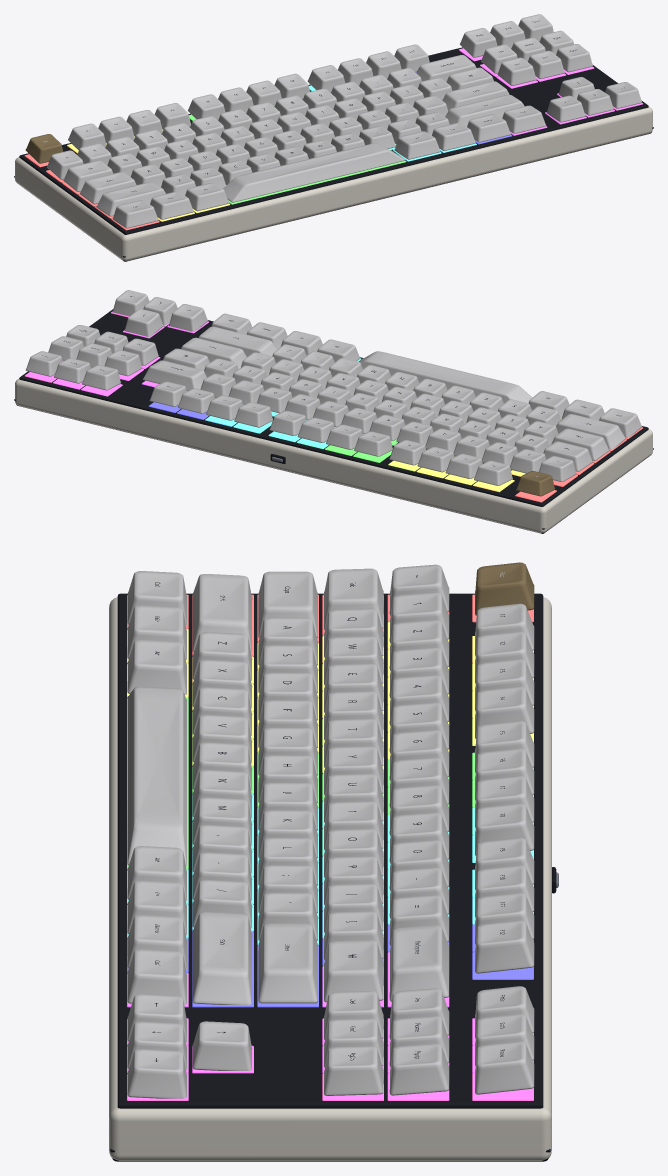
The picture shows the model from 3 angles, top to bottom: view 1: azimuth 30°, elevation 25°; view 2: azimuth 150°, elevation 25°; view 3: azimuth 270°, elevation 25°; orthographic projection. The views are drawn at different scales.
Parts seen in each view (by area): view 1: Housing, Switch plate, Key 056 | Space, Key 052 | Shift, Key 041 | Shift, Key 040 | Enter, Key 028 | Caps, Key 013 | Backspace, Key 057 | Alt, Key 053 | Ctrl, Key 054 | Win, Key 058 | Fn (+79 smaller); view 2: Housing, Switch plate, Key 056 | Space, Key 013 | Backspace, Key 052 | Shift, Key 041 | Shift, Key 040 | Enter, Key 028 | Caps, Key 014 | Tab, Key 083 | ↑, Key 080 | ←, Key 062 | F1 (+78 smaller); view 3: Switch plate, Housing, Key 056 | Space, Key 052 | Shift, Key 040 | Enter, Key 013 | Backspace, Key 041 | Shift, Key 027 | \, Key 028 | Caps, Key 076 | PgUp, Key 073 | F12, Key 086 | Pause (+77 smaller).
Boxes of the visible parts, <box> form: Housing: <box>15,106,652,260</box>; Switch plate: <box>19,47,648,234</box>; Key 056 | Space: <box>223,143,405,202</box>; Key 052 | Shift: <box>445,94,524,126</box>; Key 041 | Shift: <box>96,182,165,216</box>; Key 040 | Enter: <box>442,81,509,110</box>; Key 028 | Caps: <box>79,172,136,204</box>; Key 013 | Backspace: <box>416,55,476,81</box>; Key 057 | Alt: <box>394,131,440,159</box>; Key 053 | Ctrl: <box>112,200,158,228</box>; Key 054 | Win: <box>150,191,193,219</box>; Key 058 | Fn: <box>432,122,475,150</box>; Housing: <box>15,378,652,533</box>; Switch plate: <box>19,309,648,506</box>; Key 056 | Space: <box>358,351,532,403</box>; Key 013 | Backspace: <box>142,360,206,390</box>; Key 052 | Shift: <box>198,326,277,356</box>; Key 041 | Shift: <box>556,414,625,449</box>; Key 040 | Enter: <box>181,337,246,369</box>; Key 028 | Caps: <box>551,428,609,460</box>; Key 014 | Tab: <box>543,441,592,471</box>; Key 083 | ↑: <box>124,309,163,336</box>; Key 080 | ←: <box>169,304,207,331</box>; Key 062 | F1: <box>474,460,512,485</box>; Switch plate: <box>117,593,543,1108</box>; Housing: <box>109,597,551,1160</box>; Key 056 | Space: <box>127,686,186,866</box>; Key 052 | Shift: <box>192,912,252,1004</box>; Key 040 | Enter: <box>258,923,317,1003</box>; Key 013 | Backspace: <box>389,925,449,1001</box>; Key 041 | Shift: <box>192,574,252,653</box>; Key 027 | \: <box>324,940,383,1002</box>; Key 028 | Caps: <box>258,571,317,637</box>; Key 076 | PgUp: <box>389,1043,449,1095</box>; Key 073 | F12: <box>475,920,534,973</box>; Key 086 | Pause: <box>475,1041,534,1094</box>.
Size of the model in its own units: 0.3589 by 0.0315 by 0.1316.
